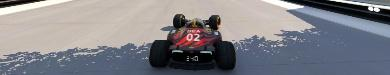Car: (148, 13, 236, 70)
